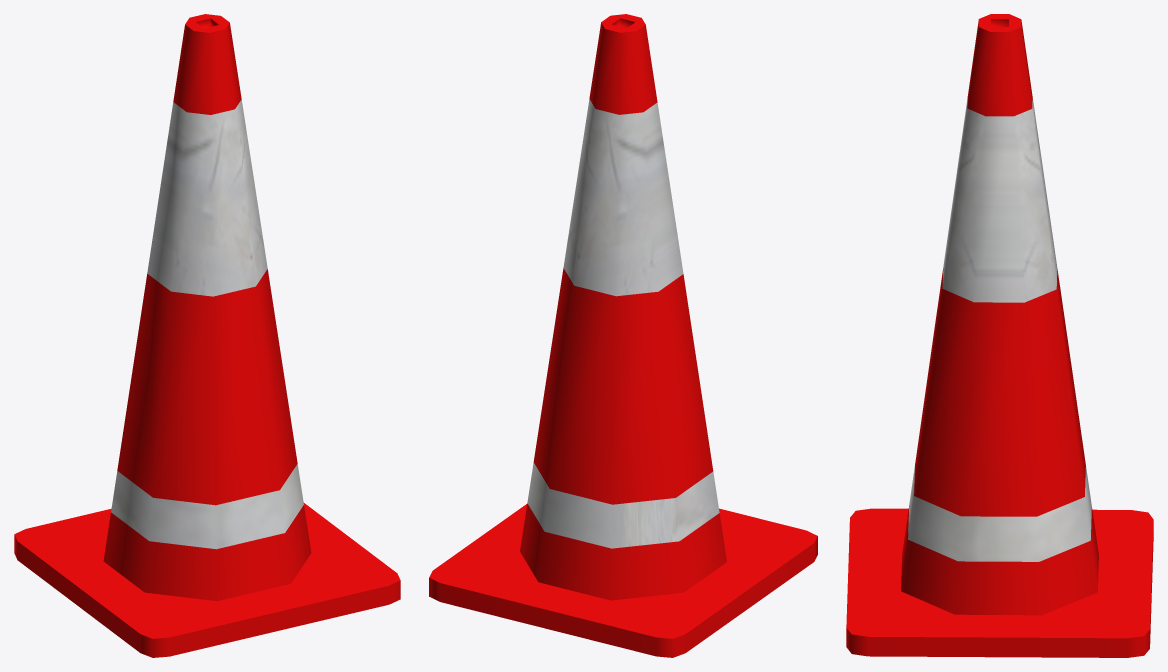
The picture shows the model from 3 angles, left to right: view 1: azimuth 30°, elevation 25°; view 2: azimuth 150°, elevation 25°; view 3: azimuth 270°, elevation 25°; orthographic projection. The views are drawn at different scales.
Visible parts, largest first — view 1: objPylon__44_.004; view 2: objPylon__44_.004; view 3: objPylon__44_.004.
Boxes of the visible parts, x1,y1,x2,y2 form: objPylon__44_.004: (14,14,400,657); objPylon__44_.004: (429,14,817,657); objPylon__44_.004: (846,14,1153,657).
Size of the model in its own units: 8.05 by 16.49 by 8.05.
